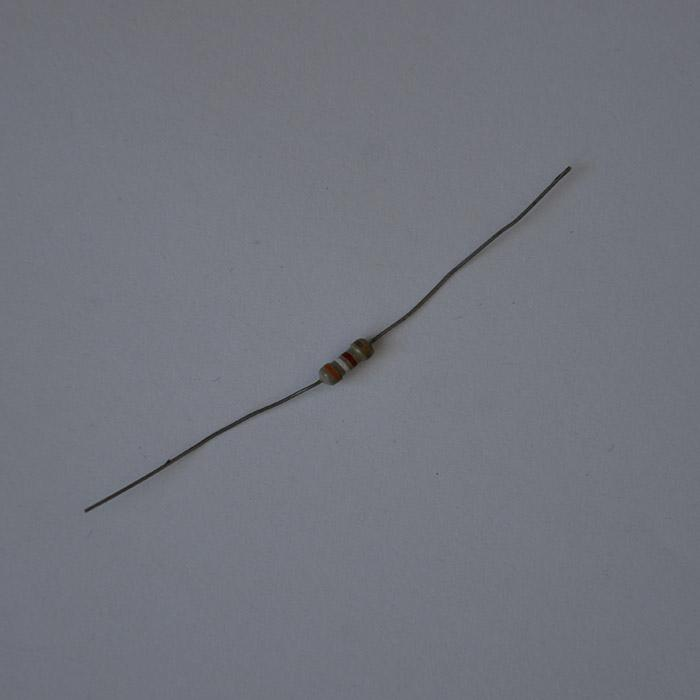resistor: (316, 337, 373, 387)
